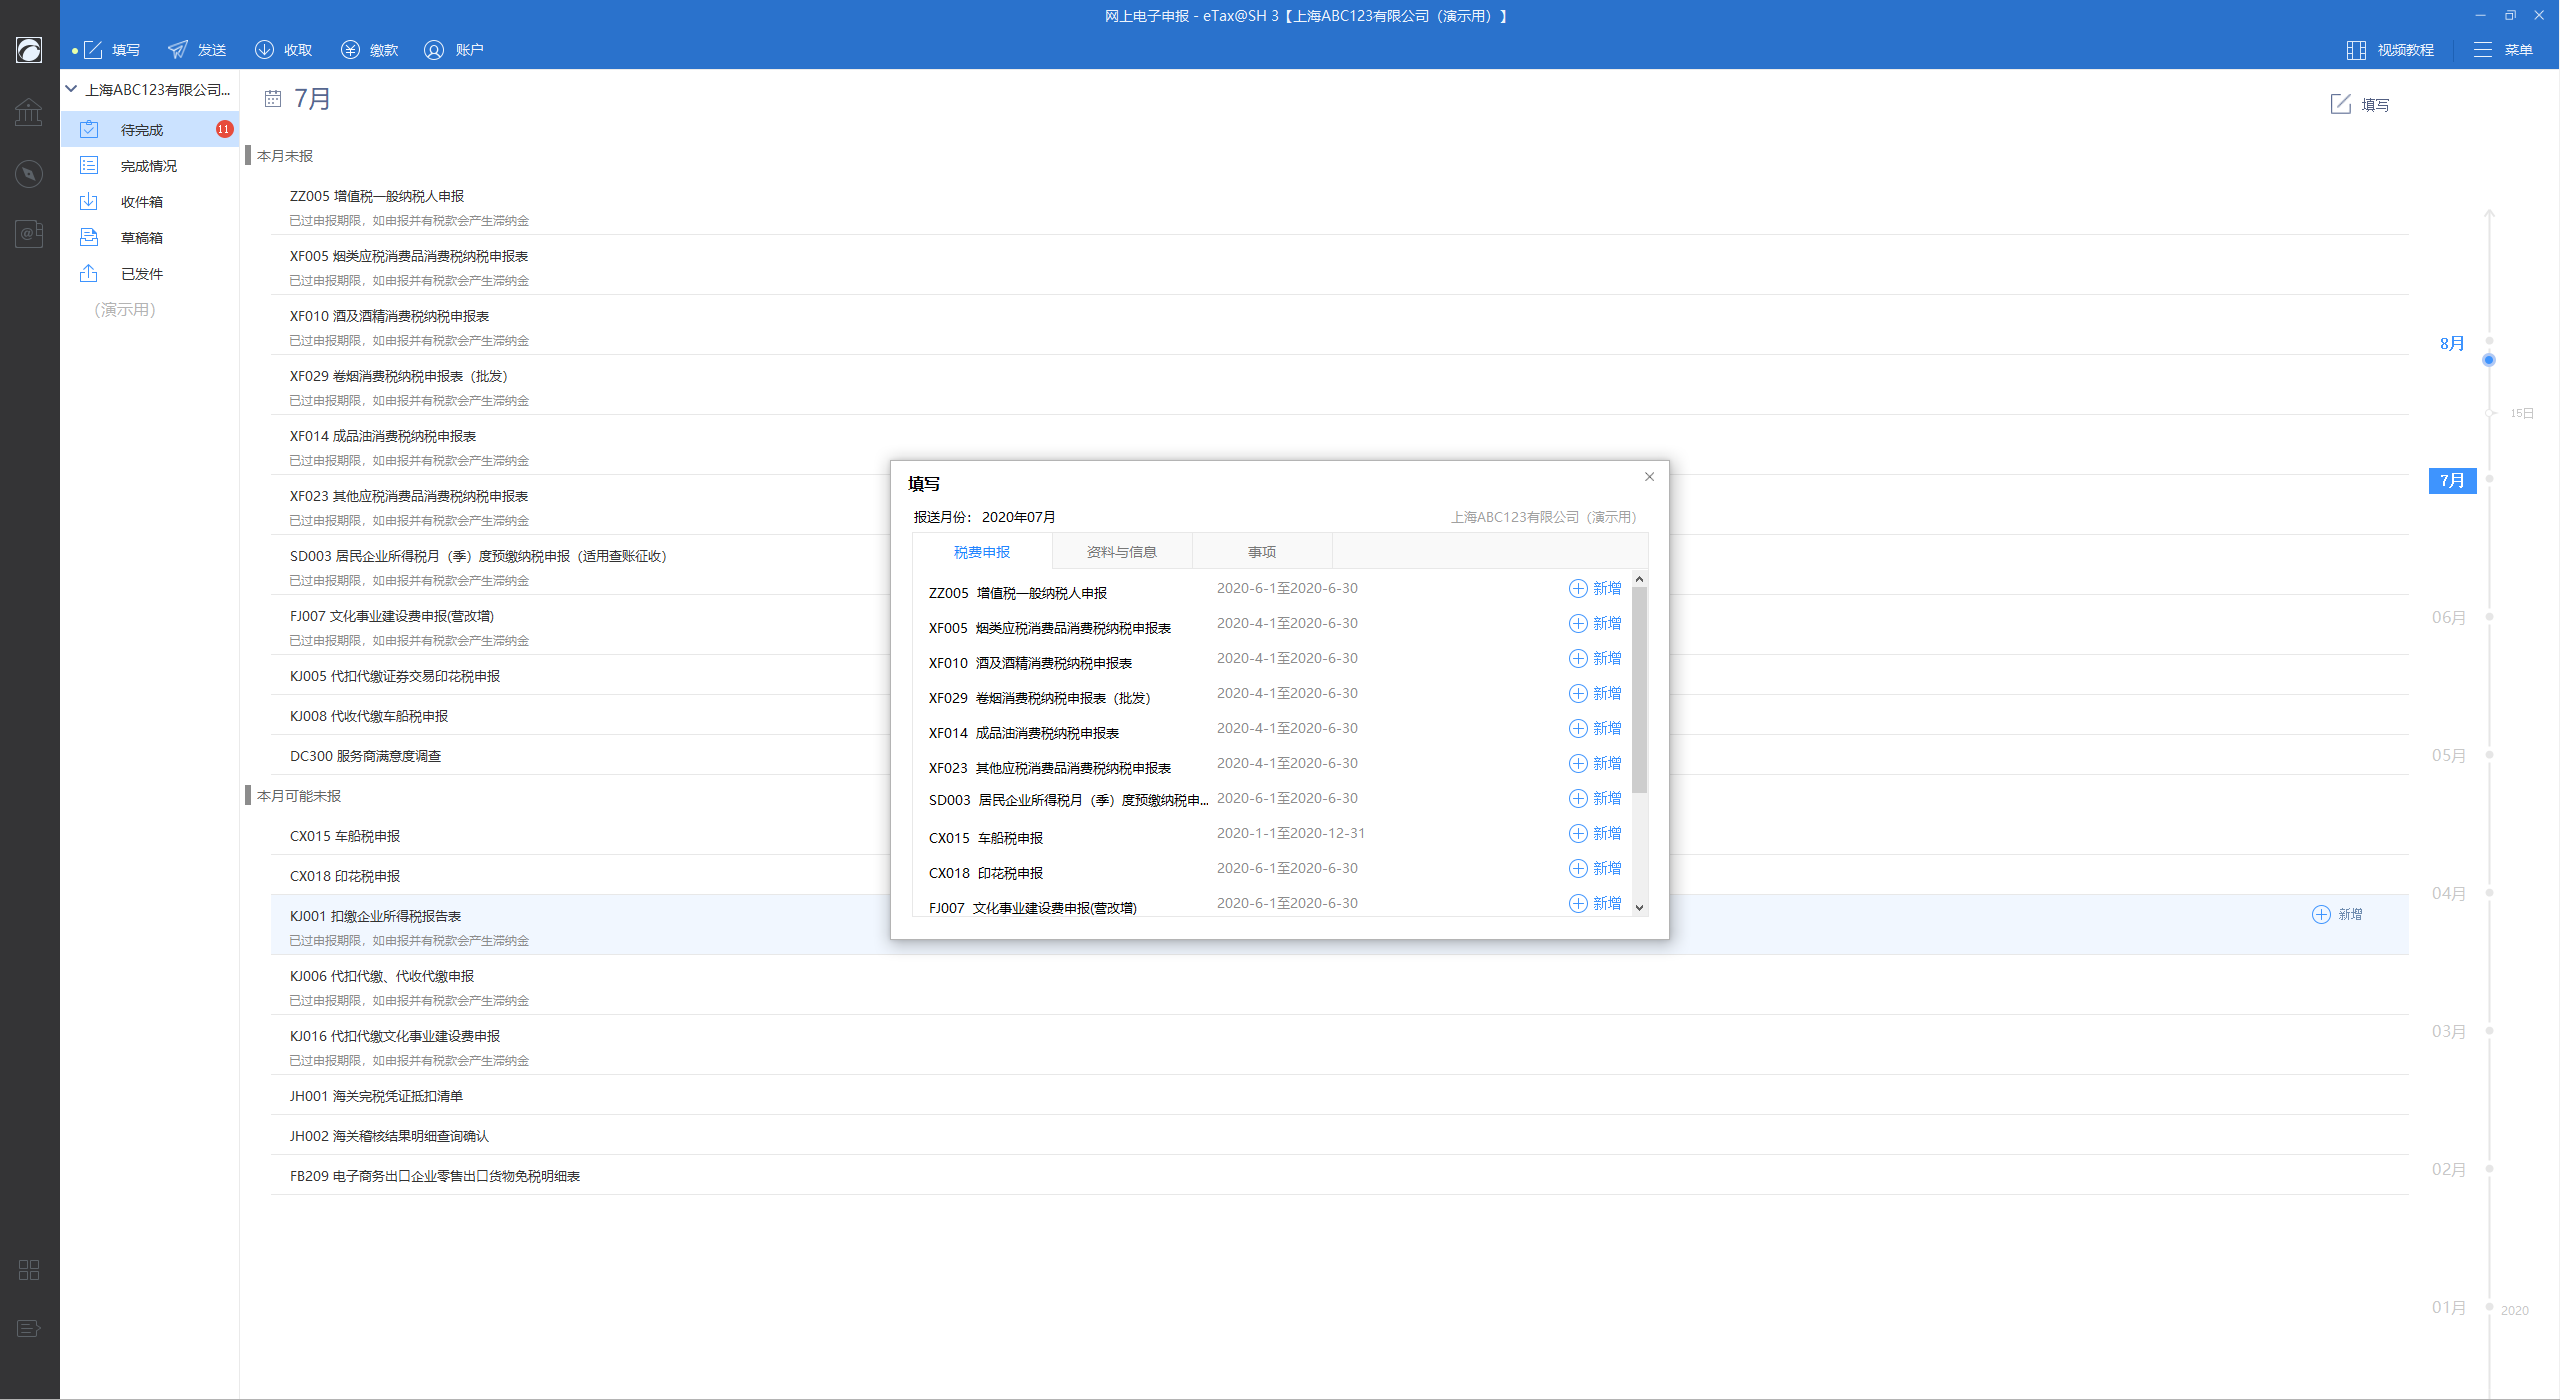character: (1108, 2, 1512, 28), (286, 1164, 591, 1190), (286, 547, 672, 566), (278, 184, 538, 209), (283, 247, 546, 269), (286, 367, 548, 390), (284, 664, 509, 690), (283, 424, 536, 447), (290, 486, 541, 509), (290, 905, 538, 928), (291, 1122, 491, 1150), (929, 684, 1153, 709), (284, 967, 565, 986), (283, 209, 536, 229), (288, 447, 534, 467), (288, 391, 533, 412), (279, 514, 541, 533), (284, 1024, 564, 1041), (284, 607, 559, 624), (284, 572, 533, 591), (291, 272, 536, 291), (290, 331, 534, 350), (922, 897, 1141, 917), (286, 633, 536, 650), (926, 724, 1129, 745), (276, 309, 534, 324), (926, 619, 1171, 634), (926, 655, 1141, 672), (291, 1090, 486, 1109), (1452, 505, 1638, 524), (290, 1053, 538, 1067), (924, 795, 1203, 807), (290, 747, 457, 766), (286, 997, 536, 1009), (929, 760, 1176, 772), (284, 707, 457, 724), (293, 934, 533, 947), (1214, 859, 1365, 878), (924, 586, 1108, 602), (288, 860, 415, 883), (924, 862, 1053, 883), (1219, 579, 1358, 597), (1215, 686, 1364, 702), (1214, 759, 1362, 774), (257, 786, 359, 809), (1212, 895, 1358, 910), (1215, 616, 1360, 631), (86, 83, 226, 98), (1219, 652, 1358, 667), (1214, 828, 1369, 841), (284, 828, 407, 845), (907, 510, 1058, 524), (1221, 795, 1364, 809), (929, 831, 1050, 847), (1219, 722, 1364, 734), (1076, 541, 1160, 560), (945, 541, 1021, 560), (2431, 464, 2474, 497), (295, 86, 341, 116), (2427, 597, 2465, 629), (2381, 41, 2441, 60), (91, 298, 155, 316), (259, 147, 322, 164), (2434, 741, 2474, 769), (2429, 1291, 2465, 1319), (2431, 1155, 2469, 1179), (121, 121, 169, 140), (2427, 883, 2470, 903), (121, 159, 183, 172), (2431, 1021, 2469, 1041), (121, 229, 165, 247), (119, 195, 174, 209), (1241, 541, 1284, 559), (453, 40, 491, 59), (2339, 903, 2365, 929), (121, 267, 164, 283), (197, 41, 231, 60), (2439, 334, 2470, 355), (283, 41, 317, 59), (2510, 403, 2541, 422), (1591, 684, 1624, 702), (2500, 1302, 2539, 1316), (2363, 95, 2395, 112), (912, 474, 938, 495), (110, 40, 143, 55), (1591, 652, 1622, 667), (1591, 759, 1622, 774), (1593, 860, 1620, 878), (1596, 614, 1620, 633), (1595, 824, 1620, 841), (1595, 581, 1622, 597), (1596, 895, 1622, 910), (1596, 790, 1620, 805), (2508, 45, 2534, 59), (374, 45, 398, 59), (1596, 722, 1622, 734)
icon: (14, 219, 45, 247), (16, 36, 43, 64), (14, 97, 41, 124), (16, 160, 43, 186), (165, 36, 190, 59), (422, 38, 445, 60), (16, 1319, 41, 1338), (2331, 91, 2351, 114), (2345, 40, 2367, 60), (17, 1259, 40, 1279), (340, 38, 360, 59), (2312, 903, 2332, 924), (253, 40, 274, 59), (79, 117, 98, 138), (264, 88, 283, 109), (78, 191, 98, 210), (83, 40, 103, 59), (1569, 717, 1588, 738), (1569, 683, 1588, 703), (1569, 578, 1588, 598), (1569, 788, 1588, 809), (1569, 822, 1588, 843), (1569, 893, 1588, 914), (79, 155, 98, 174), (79, 228, 98, 247), (78, 264, 97, 283), (215, 119, 234, 138), (2474, 40, 2493, 59), (1569, 648, 1588, 667), (1569, 614, 1588, 633), (1569, 753, 1588, 772), (1569, 859, 1588, 878), (1641, 467, 1657, 483), (1633, 900, 1648, 916), (64, 79, 78, 95), (2531, 7, 2546, 21), (1633, 571, 1646, 584), (2503, 9, 2519, 21), (2474, 9, 2488, 21)
